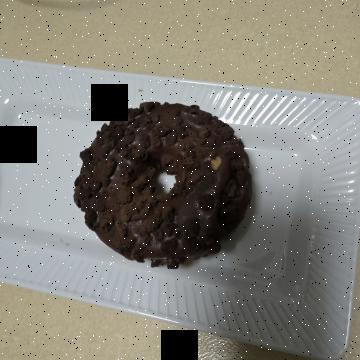doughnut: (96, 96, 292, 296)
